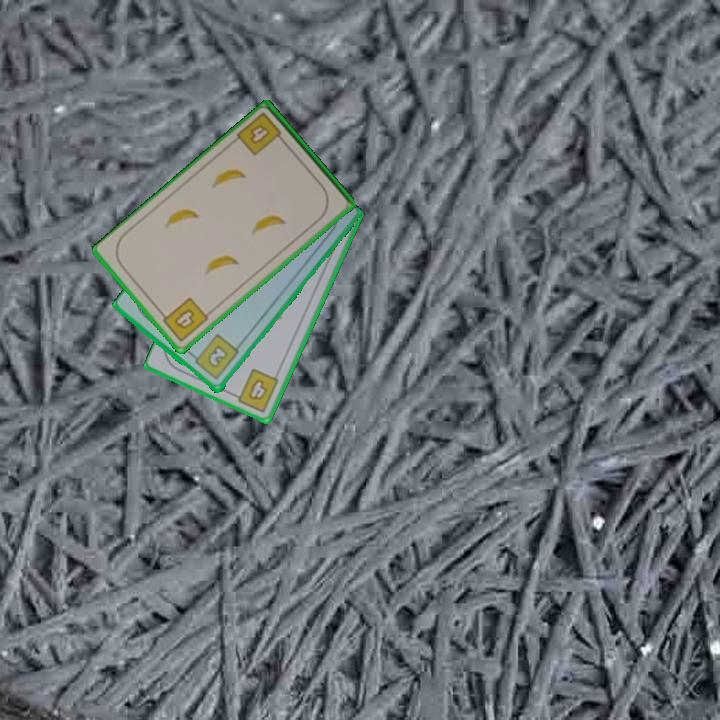2b: (188, 331, 242, 383)
4b: (156, 294, 211, 345), (234, 109, 289, 159), (229, 365, 282, 415)
